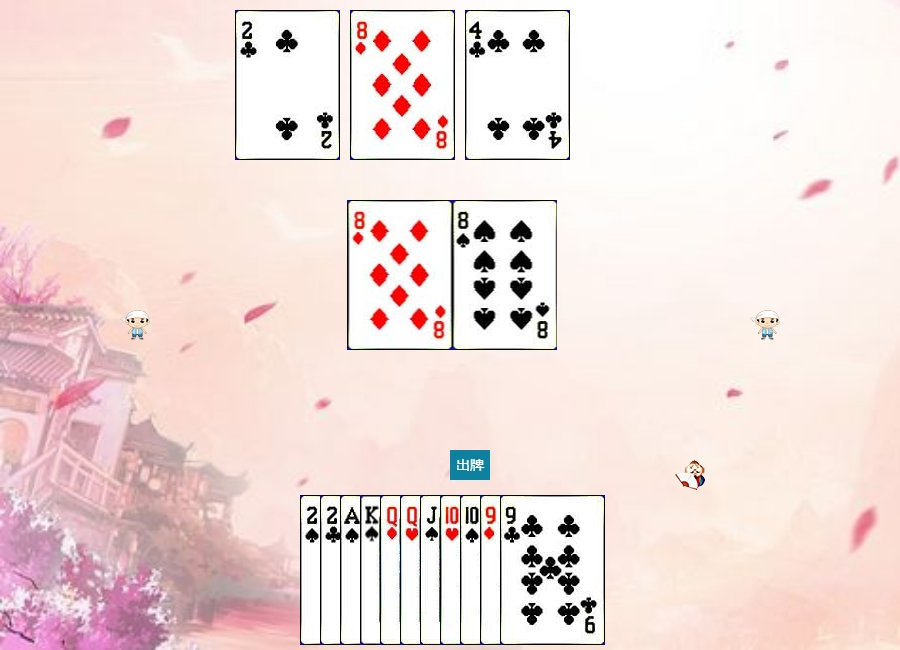10~3: (440, 495, 545, 645)
10~4: (460, 495, 565, 645)
11~4: (420, 495, 525, 645)
12~1: (380, 495, 485, 645)
12~3: (400, 495, 505, 645)
13~4: (360, 495, 465, 645)
14~4: (340, 495, 445, 645)
15~2: (235, 10, 340, 160), (320, 495, 425, 645)
15~4: (300, 495, 405, 645)
4~2: (465, 10, 570, 160)
8~1: (350, 10, 455, 160), (348, 200, 453, 350)
8~4: (453, 200, 558, 350)
9~1: (480, 495, 585, 645)
9~2: (500, 495, 605, 645)
